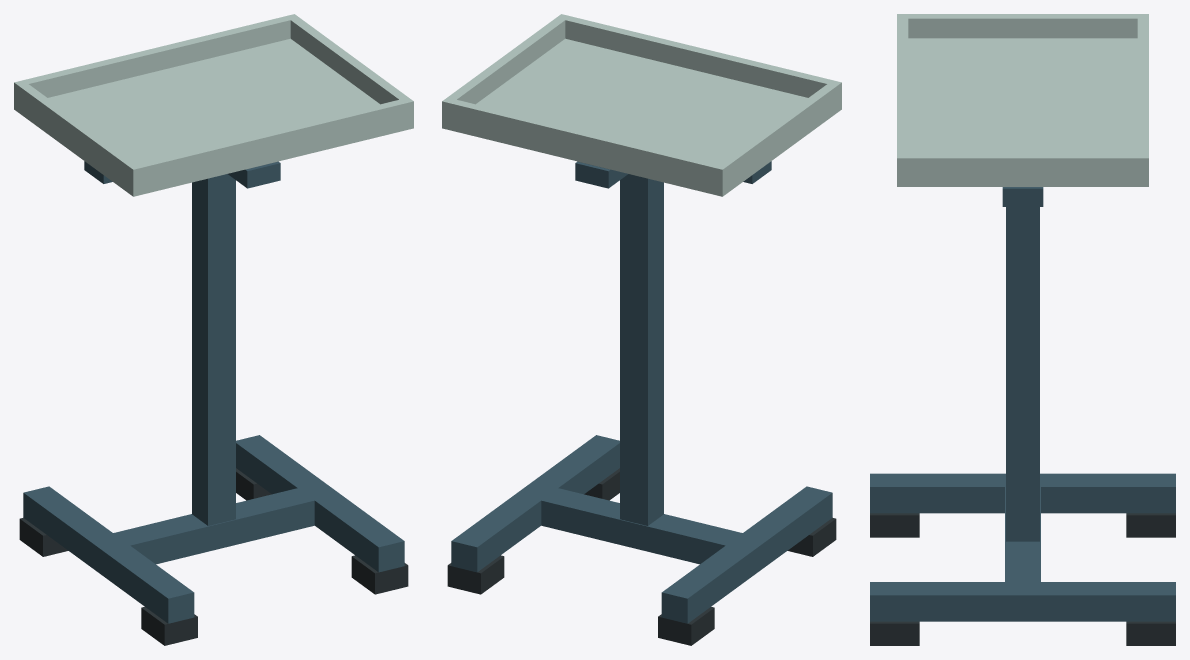
The picture shows the model from 3 angles, left to right: view 1: azimuth 30°, elevation 25°; view 2: azimuth 150°, elevation 25°; view 3: azimuth 270°, elevation 25°; orthographic projection. The views are drawn at different scales.
Parts seen in each view (by area): view 1: Continuous_EmptyShallowTray, Continuous_LowHBase, Fixed_StraightCentralColumn, Right_FrontFullGroundFoot, Left_FrontFullGroundFoot, Continuous_FourArmCrossBearer, Left_RearFullGroundFoot, Right_RearFullGroundFoot; view 2: Continuous_EmptyShallowTray, Continuous_LowHBase, Fixed_StraightCentralColumn, Right_RearFullGroundFoot, Left_RearFullGroundFoot, Continuous_FourArmCrossBearer, Left_FrontFullGroundFoot, Right_FrontFullGroundFoot; view 3: Continuous_EmptyShallowTray, Continuous_LowHBase, Fixed_StraightCentralColumn, Left_FrontFullGroundFoot, Left_RearFullGroundFoot, Right_FrontFullGroundFoot, Right_RearFullGroundFoot, Continuous_FourArmCrossBearer.
Boxes of the visible parts, <box> form: Continuous_EmptyShallowTray: <box>14,14,413,196</box>; Continuous_LowHBase: <box>23,435,404,623</box>; Fixed_StraightCentralColumn: <box>192,174,235,525</box>; Right_FrontFullGroundFoot: <box>351,555,408,594</box>; Left_FrontFullGroundFoot: <box>141,606,197,645</box>; Continuous_FourArmCrossBearer: <box>84,161,280,188</box>; Left_RearFullGroundFoot: <box>19,517,68,556</box>; Right_RearFullGroundFoot: <box>236,468,271,500</box>; Continuous_EmptyShallowTray: <box>442,14,841,196</box>; Continuous_LowHBase: <box>451,435,832,623</box>; Fixed_StraightCentralColumn: <box>620,174,663,525</box>; Right_RearFullGroundFoot: <box>447,555,504,594</box>; Left_RearFullGroundFoot: <box>658,606,714,645</box>; Continuous_FourArmCrossBearer: <box>575,161,771,188</box>; Left_FrontFullGroundFoot: <box>787,517,836,556</box>; Right_FrontFullGroundFoot: <box>584,468,619,500</box>; Continuous_EmptyShallowTray: <box>897,14,1148,186</box>; Continuous_LowHBase: <box>870,473,1175,621</box>; Fixed_StraightCentralColumn: <box>1006,207,1039,541</box>; Left_FrontFullGroundFoot: <box>870,513,919,537</box>; Left_RearFullGroundFoot: <box>1126,513,1175,537</box>; Right_FrontFullGroundFoot: <box>870,621,919,645</box>; Right_RearFullGroundFoot: <box>1126,621,1175,645</box>; Continuous_FourArmCrossBearer: <box>1002,187,1043,206</box>.
Bounding box in the file's own units: 0.76 × 1.22 × 0.68.
